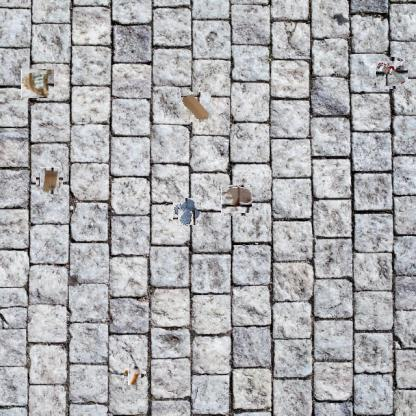dirty: (21, 70, 54, 100), (181, 92, 211, 122), (378, 58, 406, 87), (38, 169, 61, 193), (126, 366, 144, 383)
liquid: (223, 186, 251, 215), (175, 199, 199, 223)
